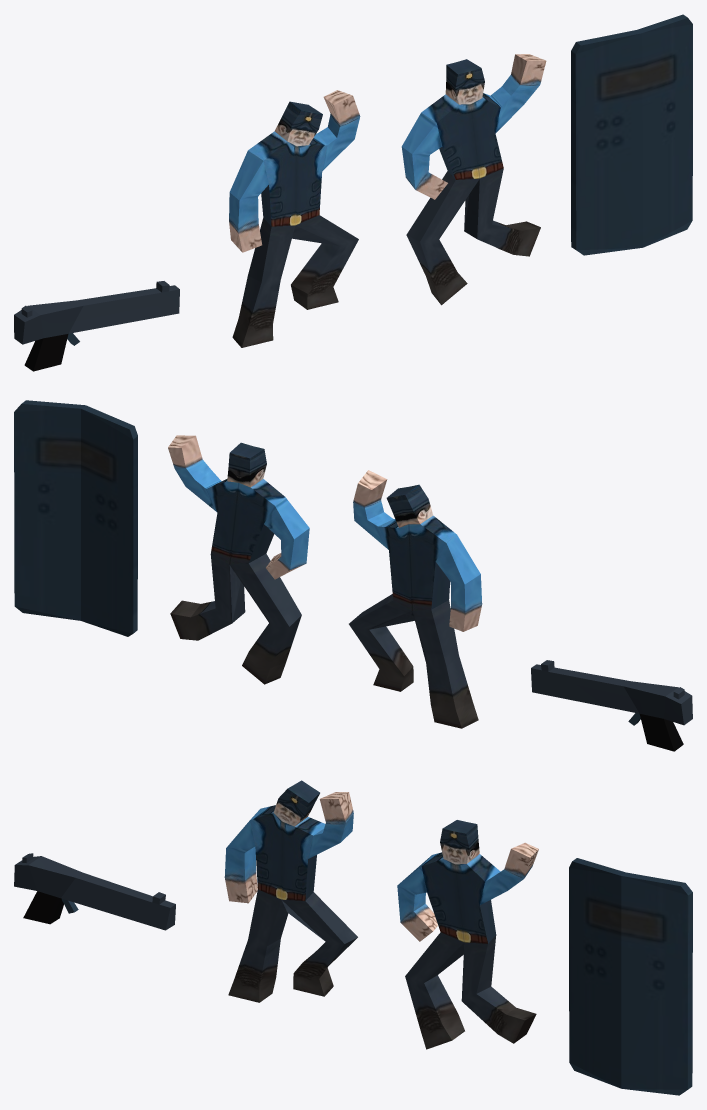
File: GarbageEnemyGunShield_4items.fbx
3 views of the same model, one above another, from view 1: azimuth 30°, elevation 25°; view 2: azimuth 150°, elevation 25°; view 3: azimuth 330°, elevation 25° (orthographic).
Visible parts, largest first — view 1: Shield1, CopShield1, CopShield2, Pistol1; view 2: Shield1, CopShield1, CopShield2, Pistol1; view 3: Shield1, CopShield2, CopShield1, Pistol1.
Part boxes in pixels (x1,y1,x2,y2): Shield1: (571,14,692,255); CopShield1: (229,90,360,347); CopShield2: (401,54,546,305); Pistol1: (14,281,179,371); Shield1: (14,400,137,636); CopShield1: (349,470,482,728); CopShield2: (168,435,309,684); Pistol1: (531,660,692,751); Shield1: (569,858,692,1095); CopShield2: (397,820,538,1049); CopShield1: (224,780,357,1002); Pistol1: (14,853,175,930).
Size of what is drawn, in the model's own units: 44.67 by 14.63 by 1.77.
